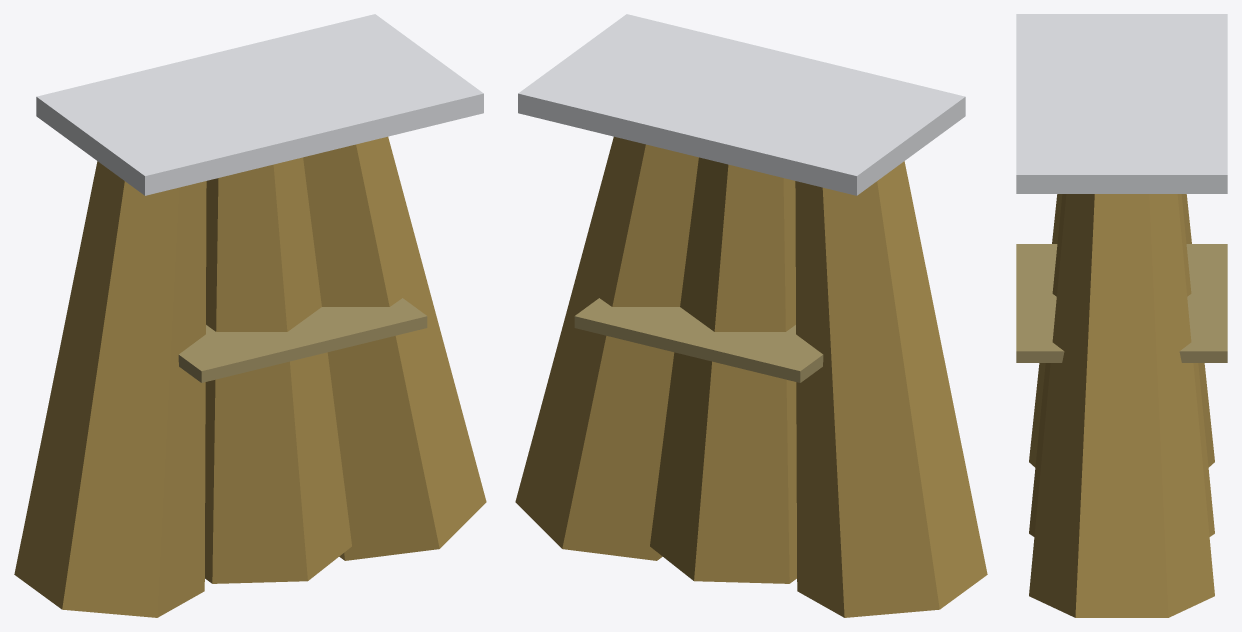
File: a3g_straw_bundle.glb
3 renders of one model, left to right at view 1: azimuth 30°, elevation 25°; view 2: azimuth 150°, elevation 25°; view 3: azimuth 270°, elevation 25°, orthographic. The views are drawn at different scales.
Visible parts, largest first — view 1: a3g_straw_bundle; view 2: a3g_straw_bundle; view 3: a3g_straw_bundle.
Part boxes in pixels (bbox=[...]): a3g_straw_bundle: bbox=[14, 14, 486, 617]; a3g_straw_bundle: bbox=[515, 14, 987, 617]; a3g_straw_bundle: bbox=[1016, 14, 1227, 617].
Size of the model in its own units: 1.13 by 1.18 by 0.5.
